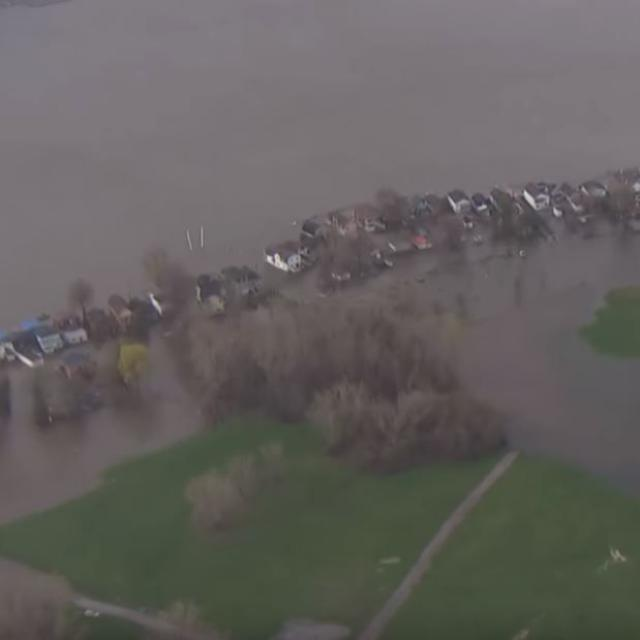flooded_areas: (0, 11, 620, 510)
